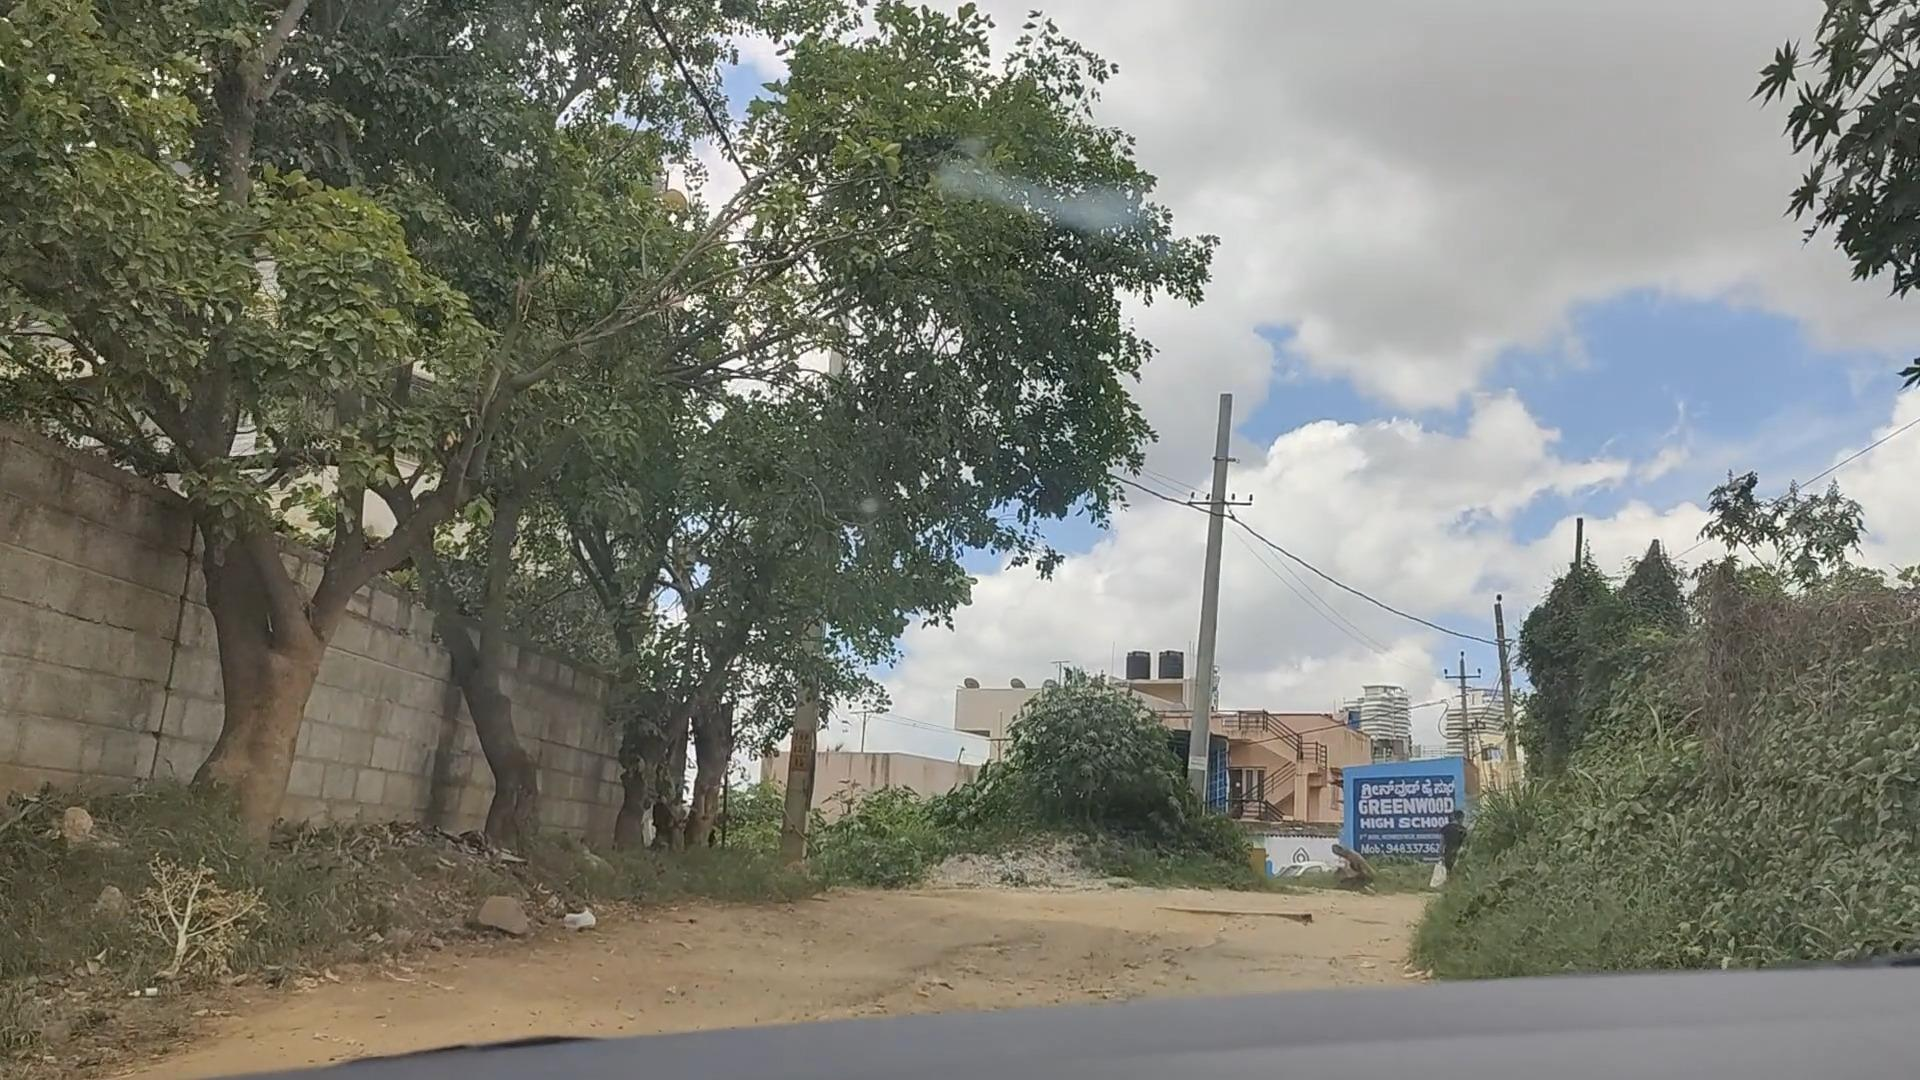RoadDamages: (807, 890, 1232, 1009), (1142, 874, 1321, 935)
